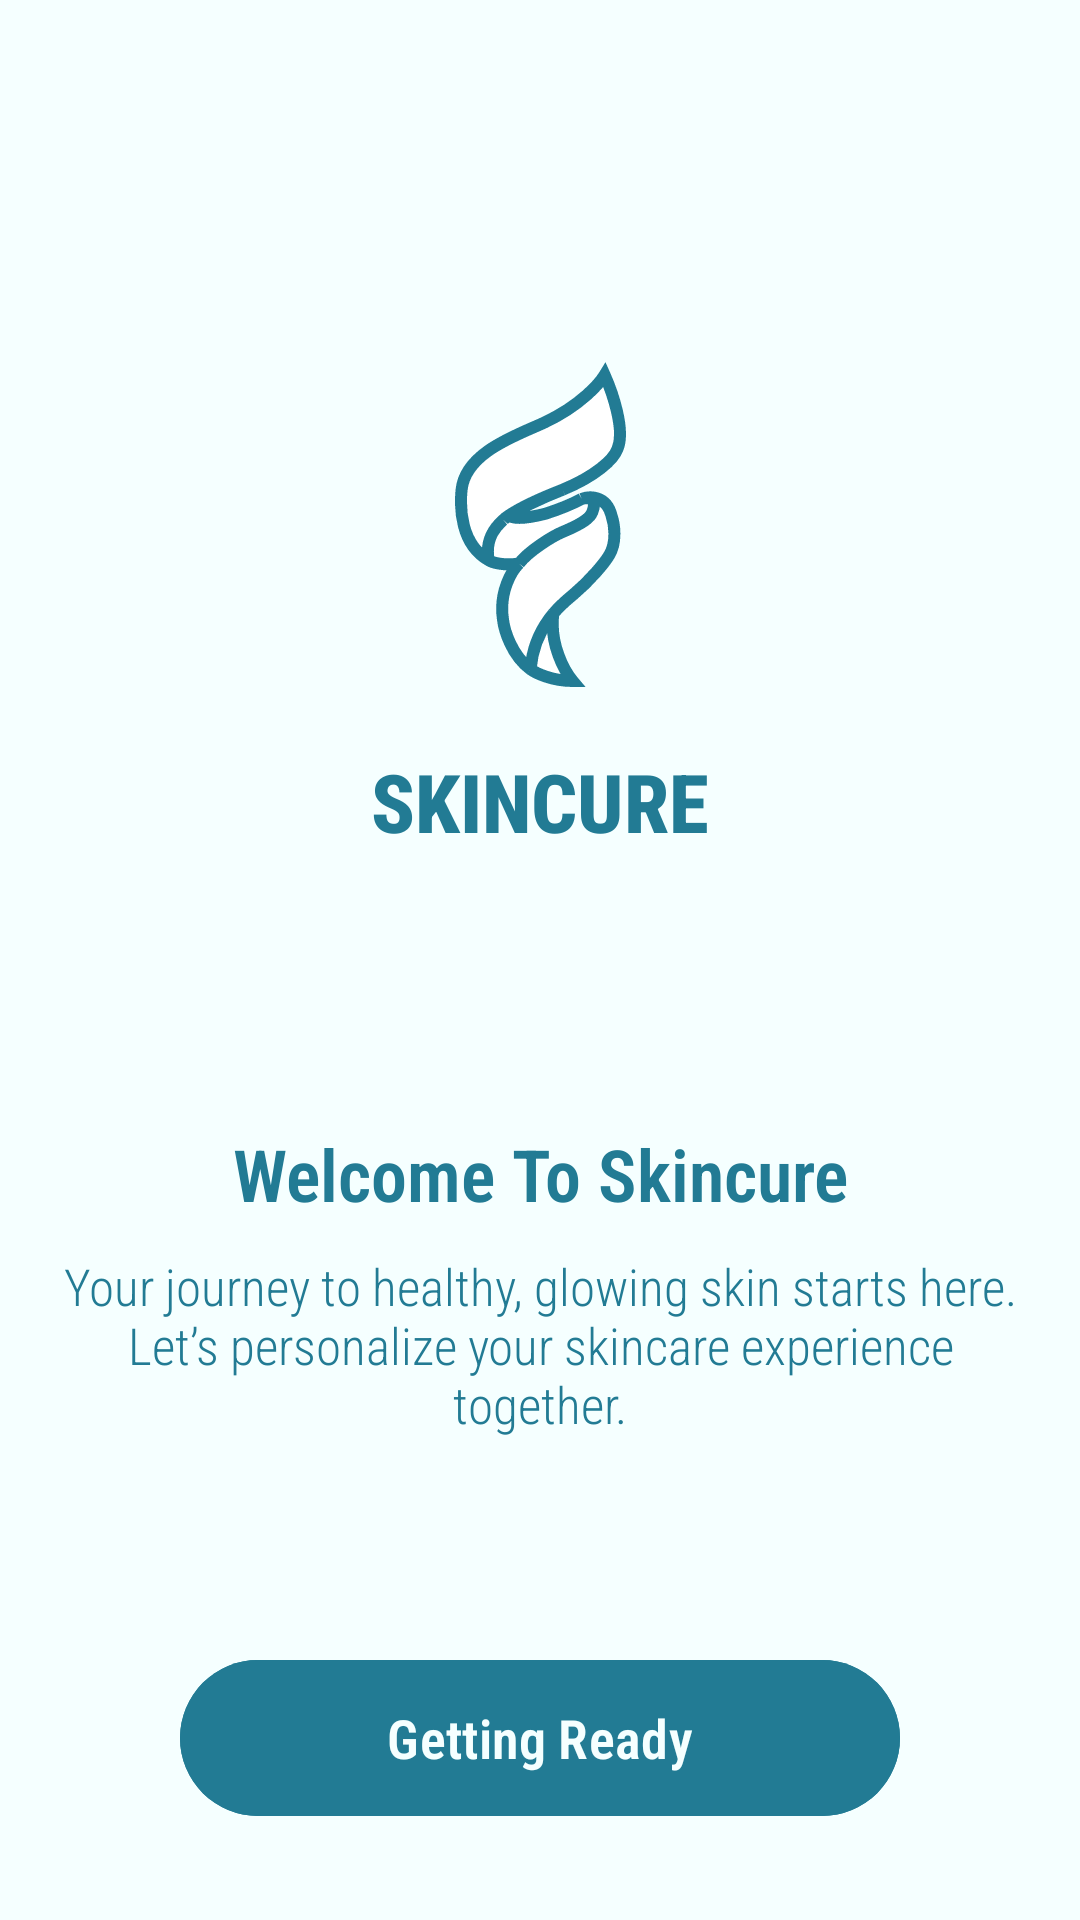

Locate icon controls on the screen. Image size 1080px×1920px, boxes as (x1=x1, y1=y1, x2=x2, y2=y2).
app: (x1=455, y1=362, x2=626, y2=687)
